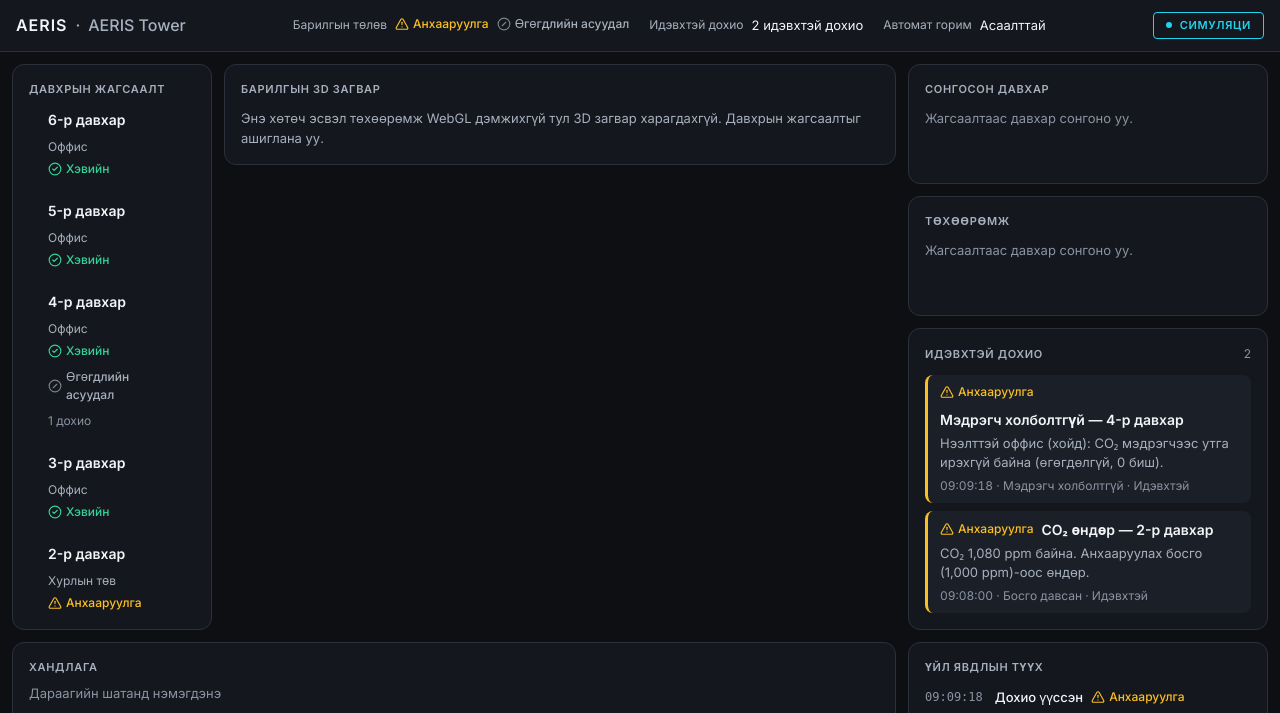
Test: Dashboard — жишээ snapshot-оор › холболтгүй мэдрэгч «Өгөгдөлгүй» гэж харагдана, хэзээ ч 0 биш (FR-M5)
(page scrolled)
Click the option "4-р давхар Оффис Хэвийн Өгөгдлийн асуудал 1 дохио" at (89,360), box [48,293,129,428]
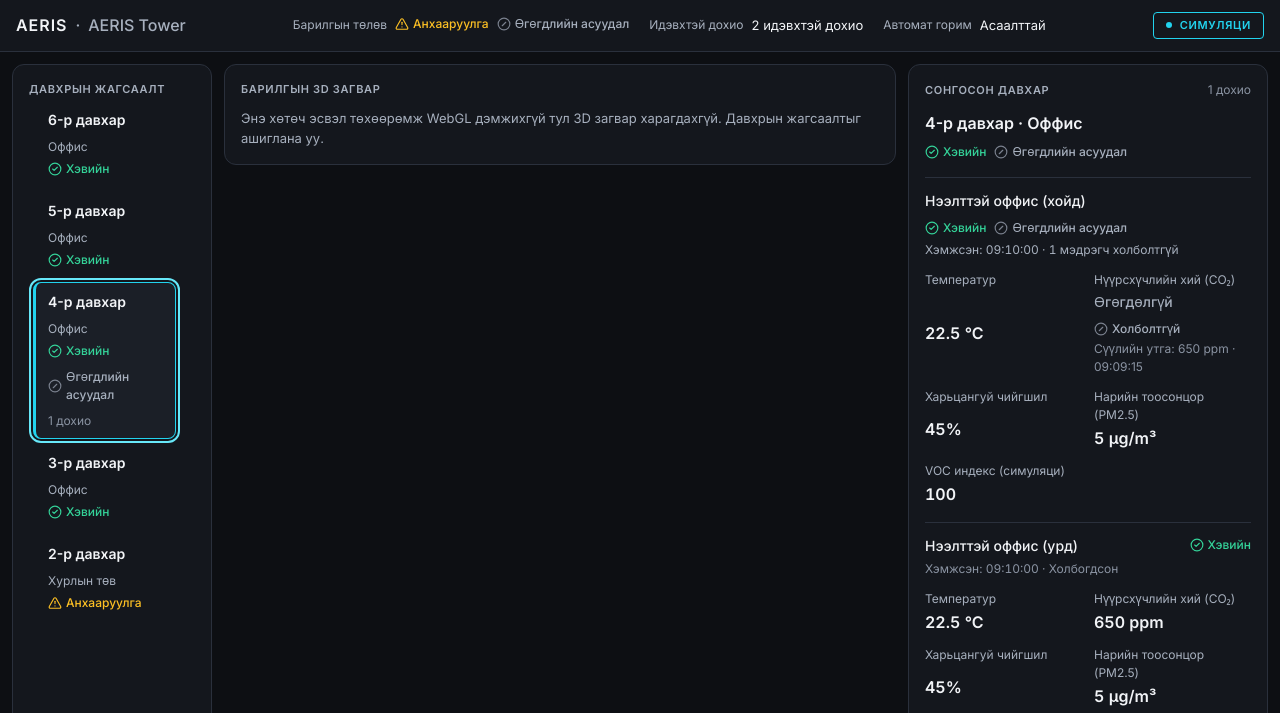
Check: the text "Нүүрсхүчлийн хий (CO₂)" shows "Өгөгдөлгүй", box [1094,292,1173,310]
Check: the text "Нүүрсхүчлийн хий (CO₂)" shows "Сүүлийн утга", box [1094,340,1236,374]
